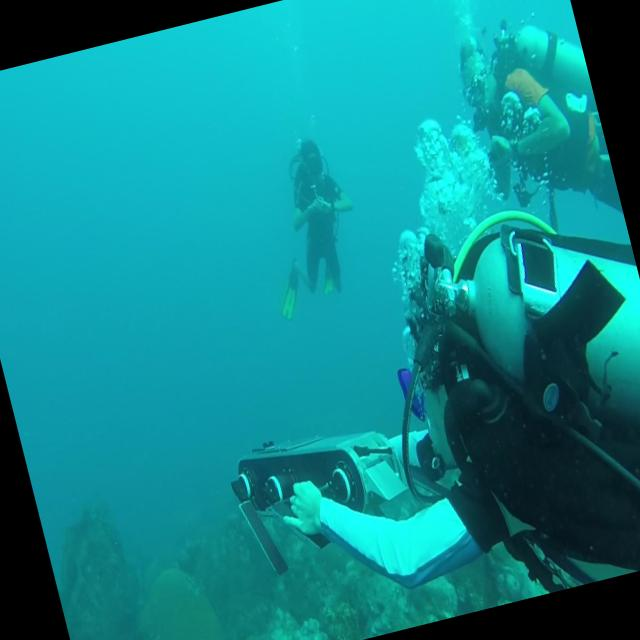human: (217, 182, 640, 640), (447, 5, 622, 244), (240, 128, 376, 322)
